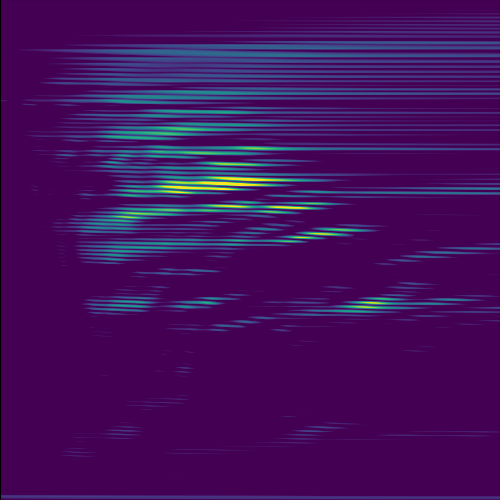semblance: (156, 176, 293, 196), (344, 288, 409, 316), (281, 222, 371, 241), (257, 198, 335, 216)
